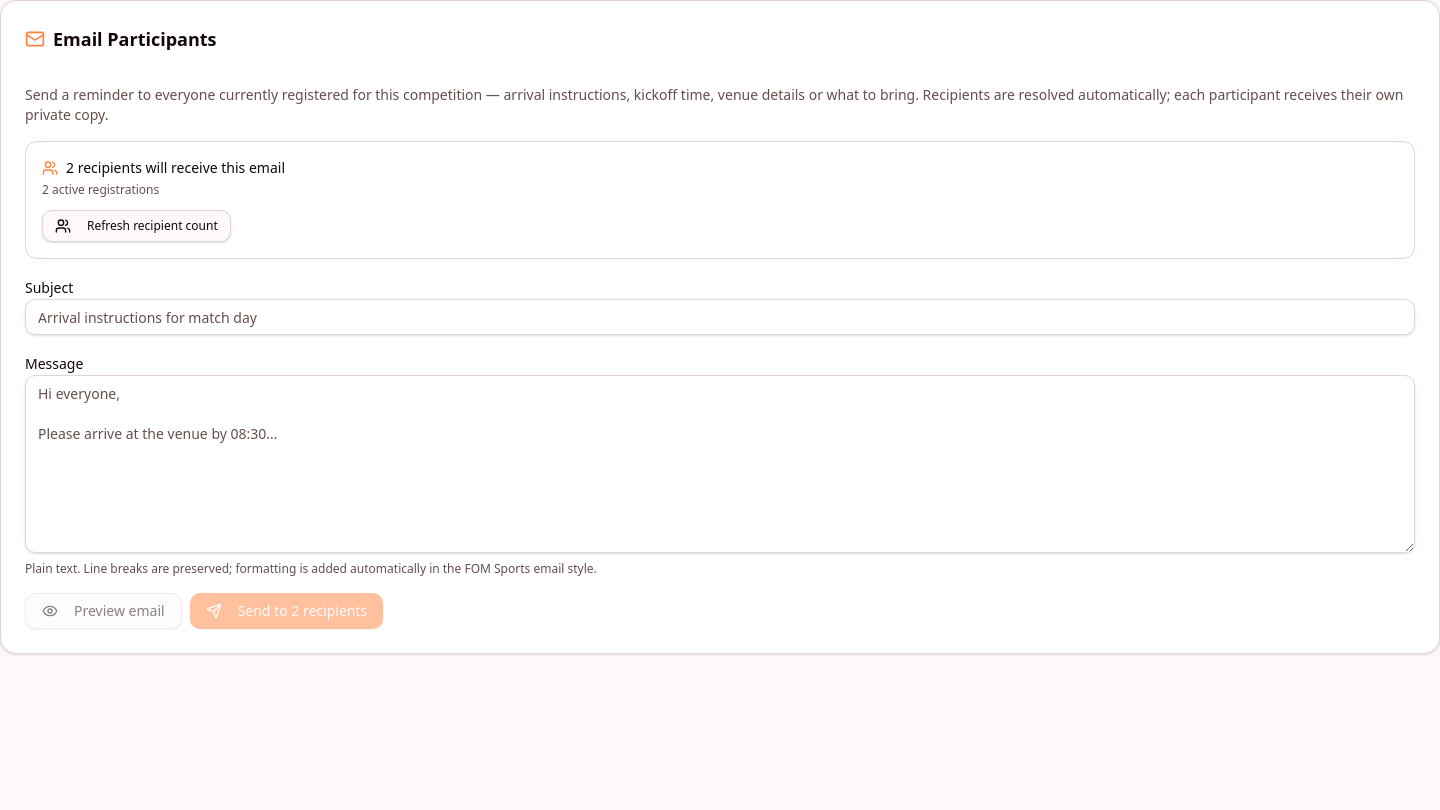
T-BULK-1: Email Participants panel › renders a server-built preview without sending anything
This screenshot has width=1440, height=810.
Expected: the text "2 recipients will receive this email" is shown, [42,158,285,177]
In the field labelled "Subject": x=720, y=317 [25,299,1415,335], type "Arrival instructions"
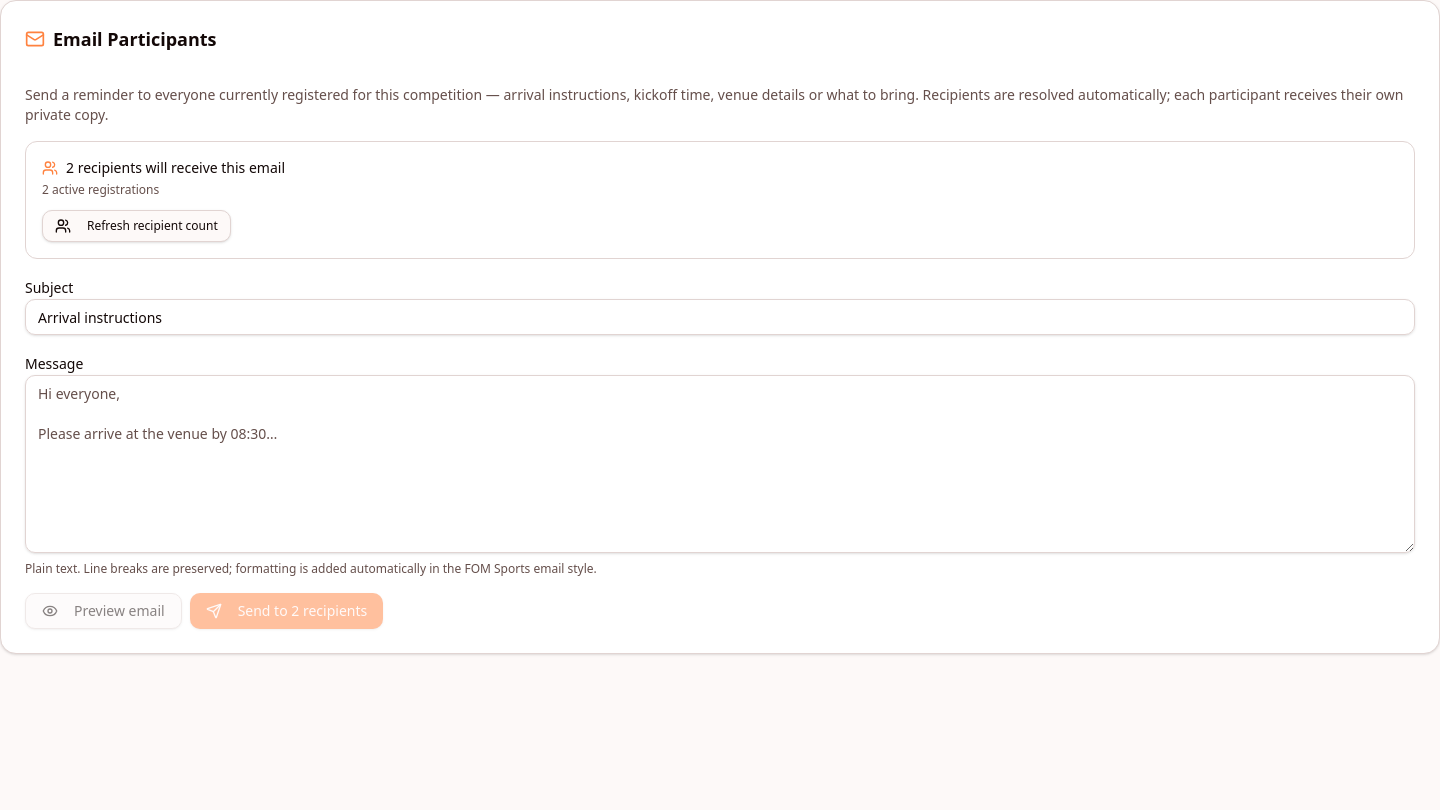
In the text box labelled "Message": x=720, y=464 [25,375,1415,553], type "Arrive by 08:30."
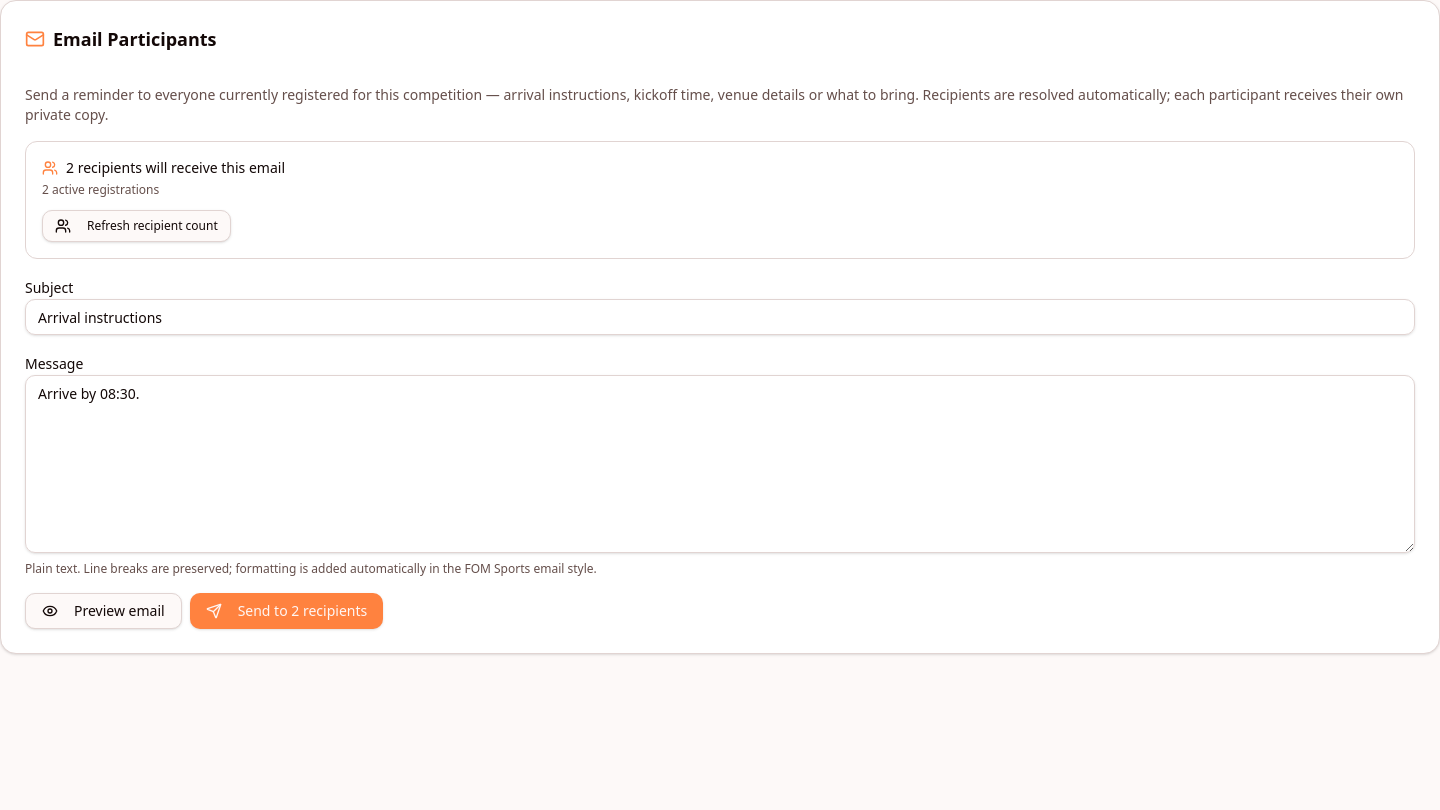
Click the button "Preview email": x=103, y=611 [25,593,182,629]
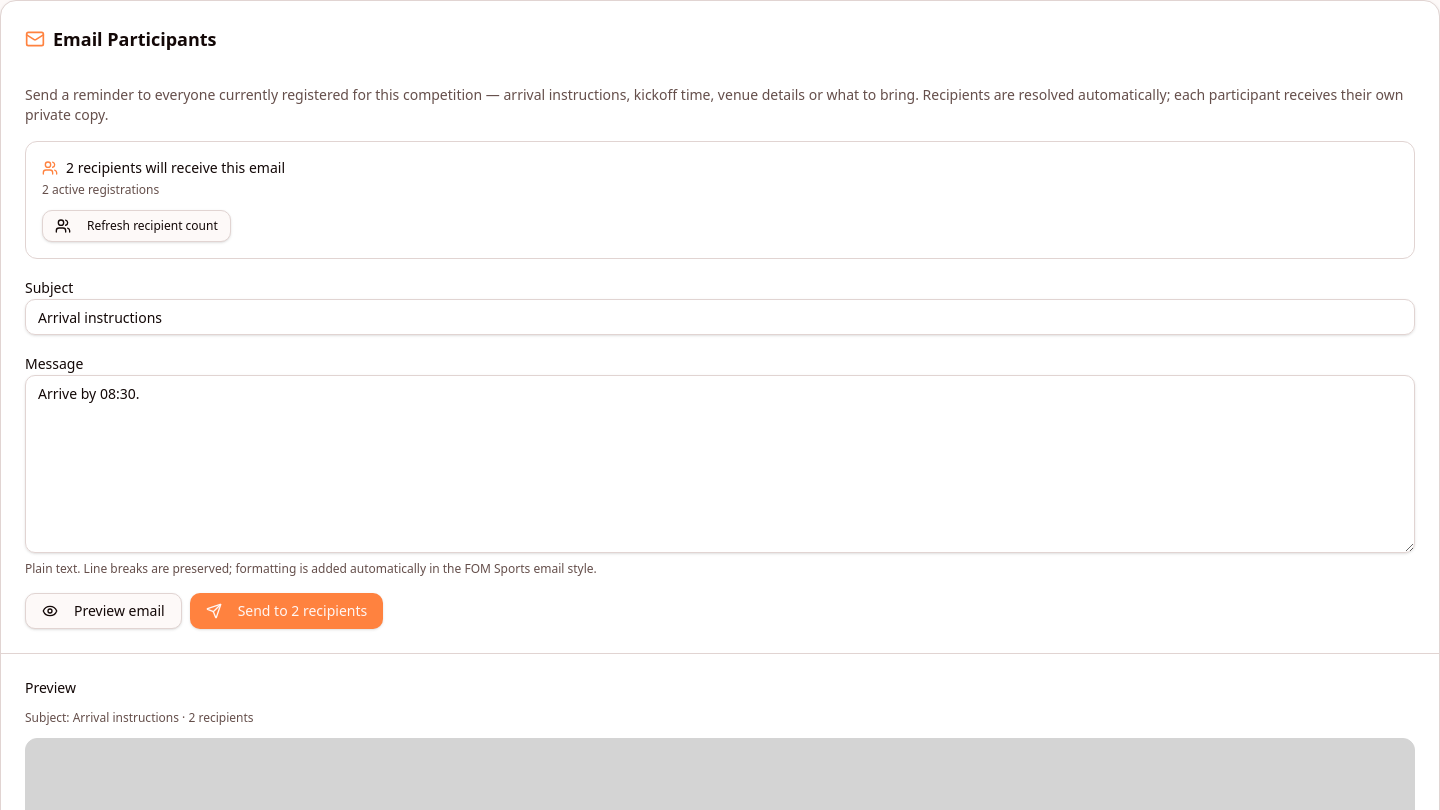
Now the text "Subject: Arrival instructions · 2 recipients" is shown, box [25,709,254,726]
